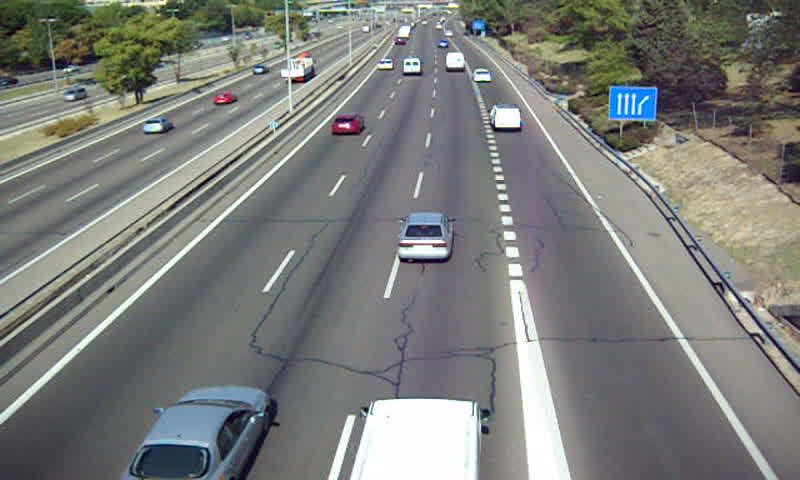car: (120, 385, 273, 480), (400, 213, 454, 261), (331, 114, 364, 135), (472, 67, 493, 82), (376, 58, 393, 70)
van: (350, 398, 481, 480), (491, 104, 522, 130), (446, 52, 466, 72), (402, 56, 422, 74)
